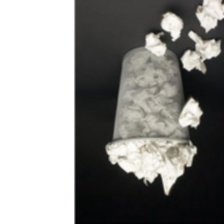tissue: (101, 136, 202, 199), (186, 28, 224, 66), (174, 93, 207, 132), (192, 0, 224, 37), (156, 9, 188, 45), (176, 47, 208, 77), (141, 28, 170, 59)
